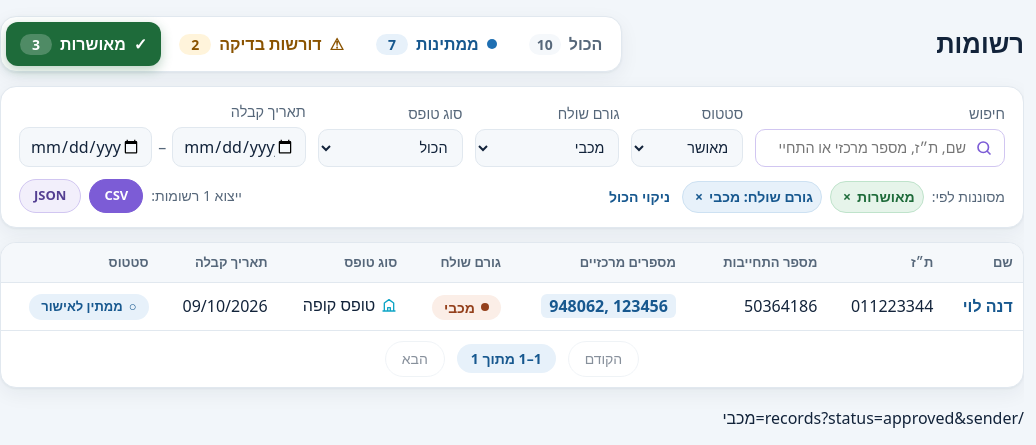
Test: RecordsPage › the 'all' tab counts every record and takes the status filter off
Click the button "הכול 10".
click(566, 44)  # box [515,22,616,66]
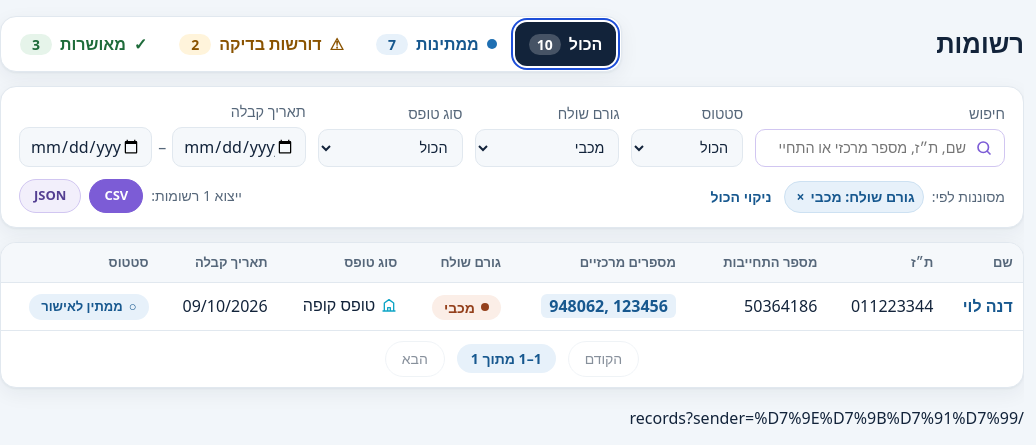
Result: the text with test id "where" reads "/records?sender=%D7%9E%D7%9B%D7%91%D7%99" at [630,407,1024,429]
